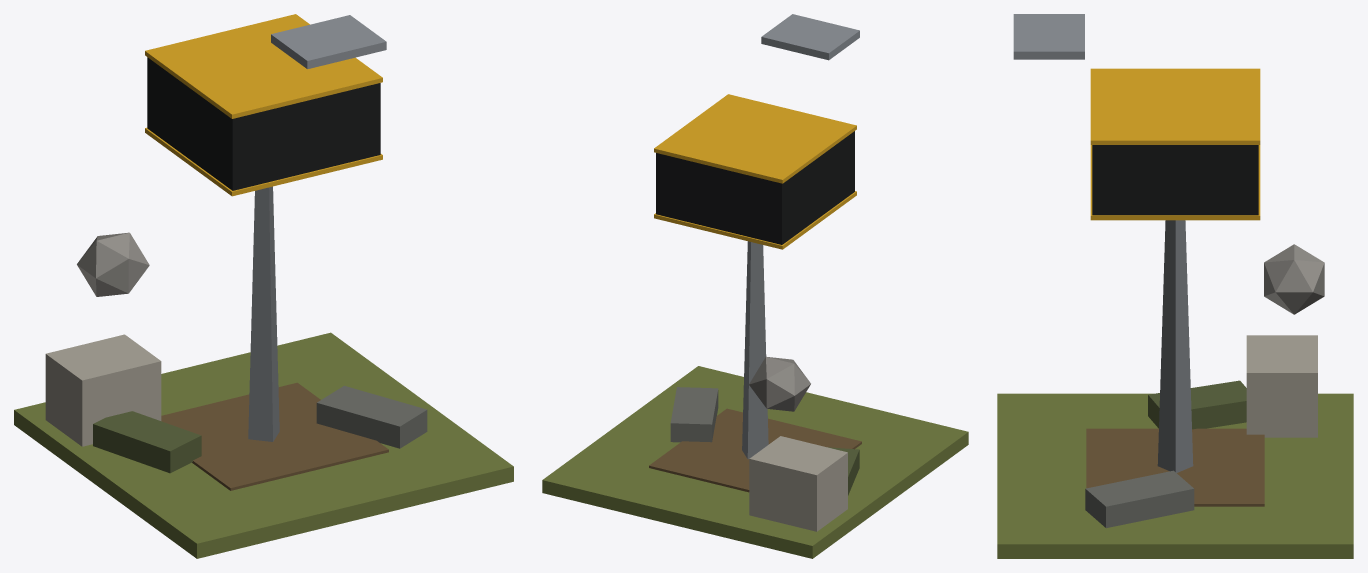
3 views of the same model, side by side, from view 1: azimuth 30°, elevation 25°; view 2: azimuth 150°, elevation 25°; view 3: azimuth 270°, elevation 25° (orthographic). The views are drawn at different scales.
Parts seen in each view (by area): view 1: far; view 2: far; view 3: far.
Part boxes in pixels (x1,y1,x2,y2): far: [14, 14, 513, 558]; far: [542, 14, 968, 558]; far: [997, 14, 1353, 558].
Bounding box in the file's own units: 12 × 16.75 × 12.
Materials: 1 (1 with a texture image).
